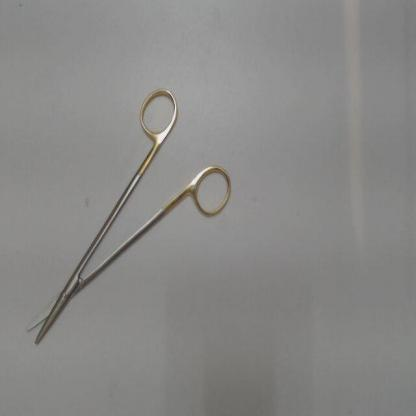7 Metzenbaum Scissors: (24, 85, 237, 352)
